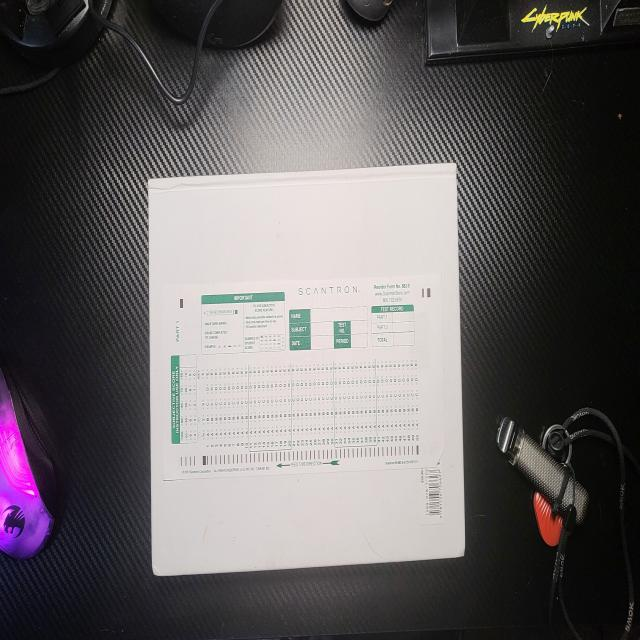scantron: (161, 272, 445, 480)
